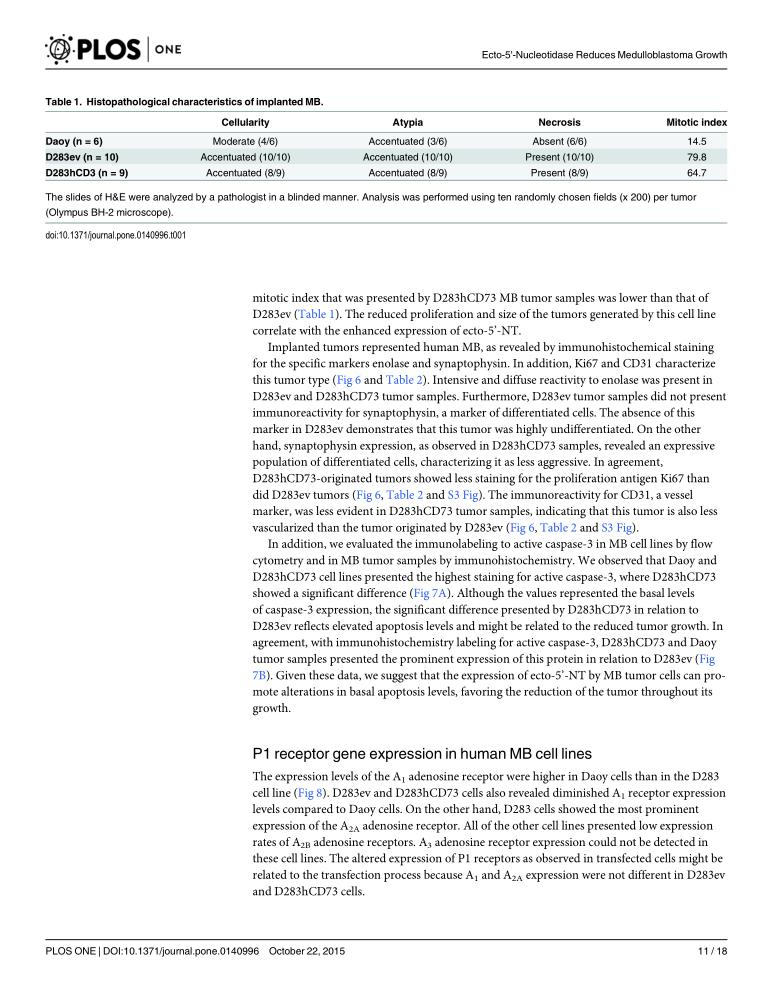table: (45, 116, 726, 178)
